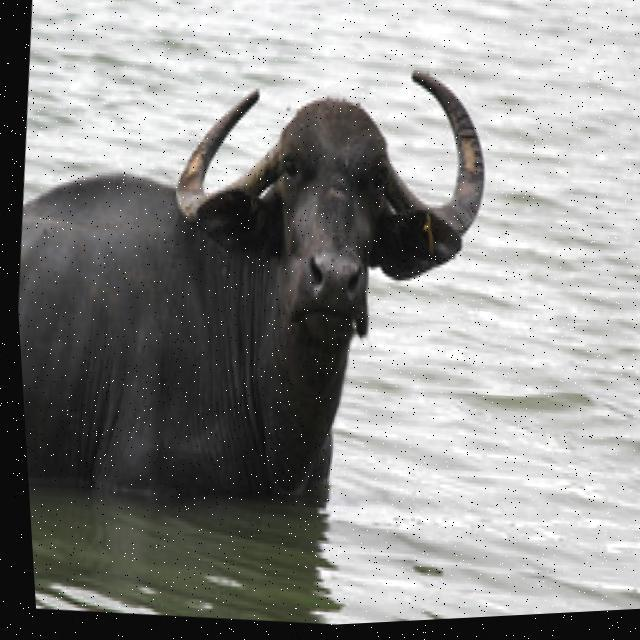Buffalo: (2, 16, 517, 543)
